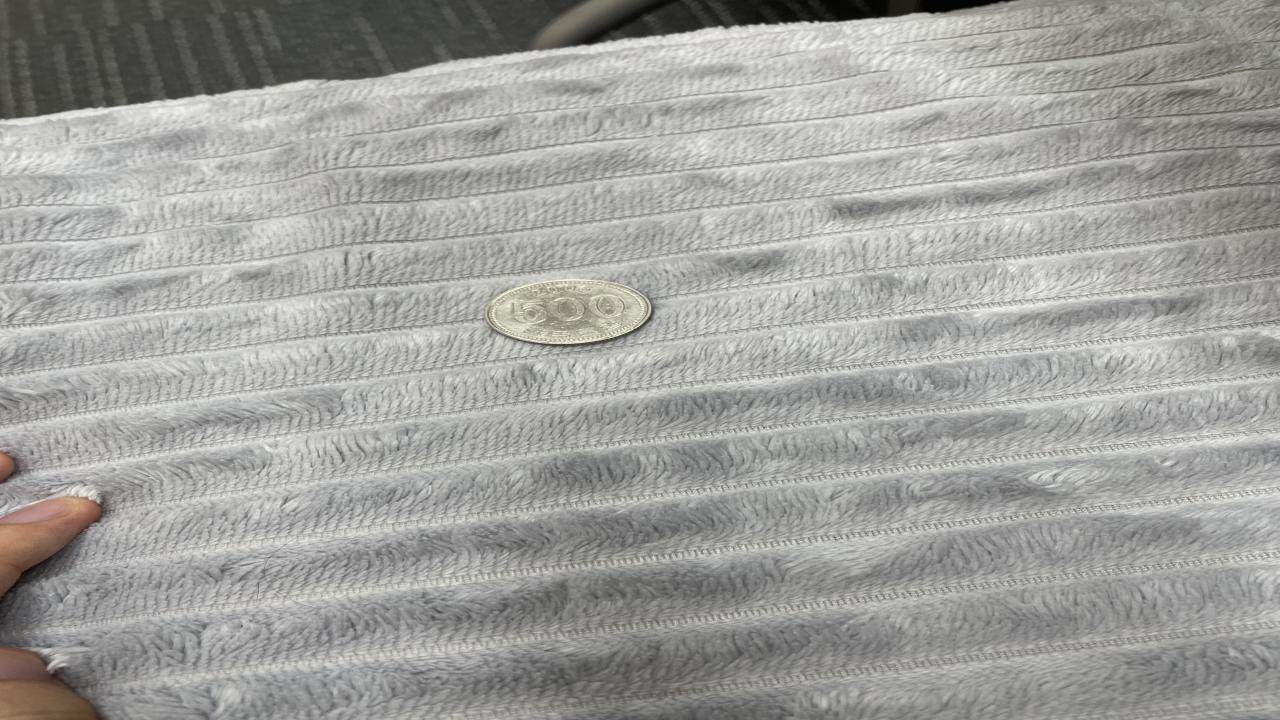coin: (485, 277, 657, 346)
